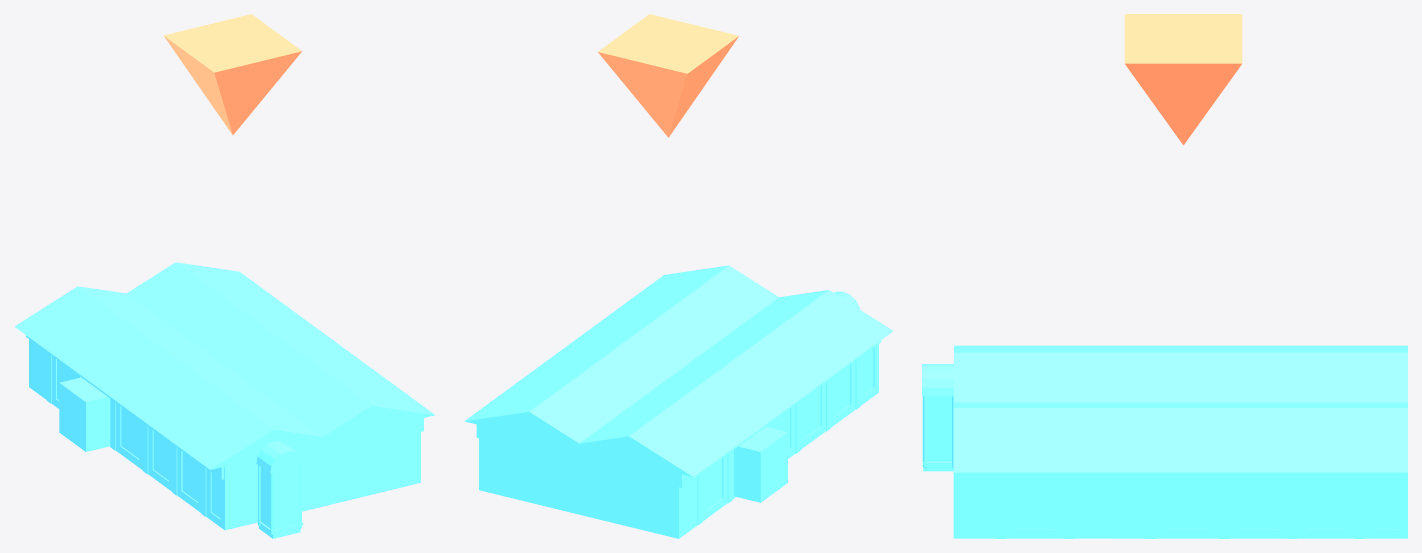
File: build17.gltf
3 views of the same model, side by side, from view 1: azimuth 30°, elevation 25°; view 2: azimuth 150°, elevation 25°; view 3: azimuth 270°, elevation 25° (orthographic). The views are drawn at different scales.
Parts seen in each view (by area): view 1: subject, fire-mark; view 2: subject, fire-mark; view 3: subject, fire-mark.
Boxes of the visible parts, box(x1,y1,x2,y2) form: subject: box(14, 262, 435, 538); fire-mark: box(163, 14, 302, 134); subject: box(464, 265, 893, 538); fire-mark: box(598, 14, 738, 137); subject: box(922, 345, 1407, 538); fire-mark: box(1124, 14, 1242, 145).
Bounding box in the file's own units: 15.63 × 25.09 × 24.12.
